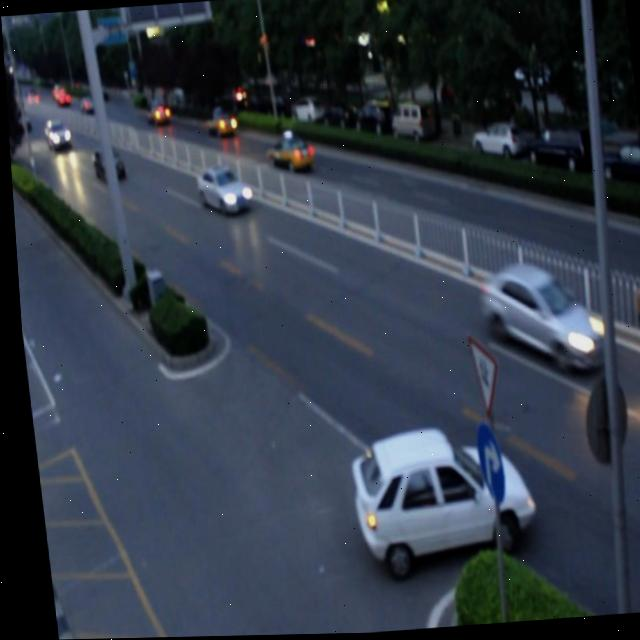car: (338, 426, 529, 561), (474, 259, 599, 379), (191, 165, 247, 215), (260, 136, 312, 175), (90, 146, 125, 185), (202, 108, 236, 140), (628, 270, 640, 355)
